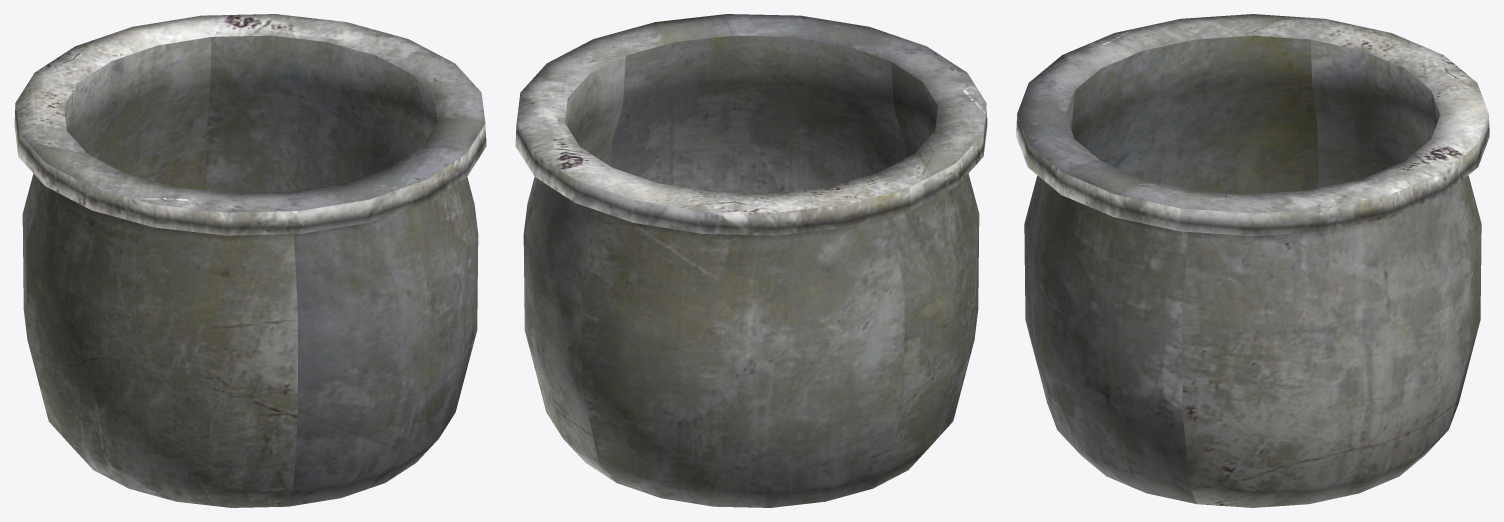
Rendered from Cauldron.fbx.
3 views of the same model, side by side, from view 1: azimuth 30°, elevation 25°; view 2: azimuth 150°, elevation 25°; view 3: azimuth 270°, elevation 25° (orthographic).
Visible parts, largest first — view 1: Cauldron; view 2: Cauldron; view 3: Cauldron.
Boxes of the visible parts, box(x1,y1,x2,y2) form: Cauldron: box(14, 14, 486, 507); Cauldron: box(515, 14, 987, 507); Cauldron: box(1016, 14, 1489, 507).
Size of the model in its own units: 1.94 by 1.57 by 1.94.
